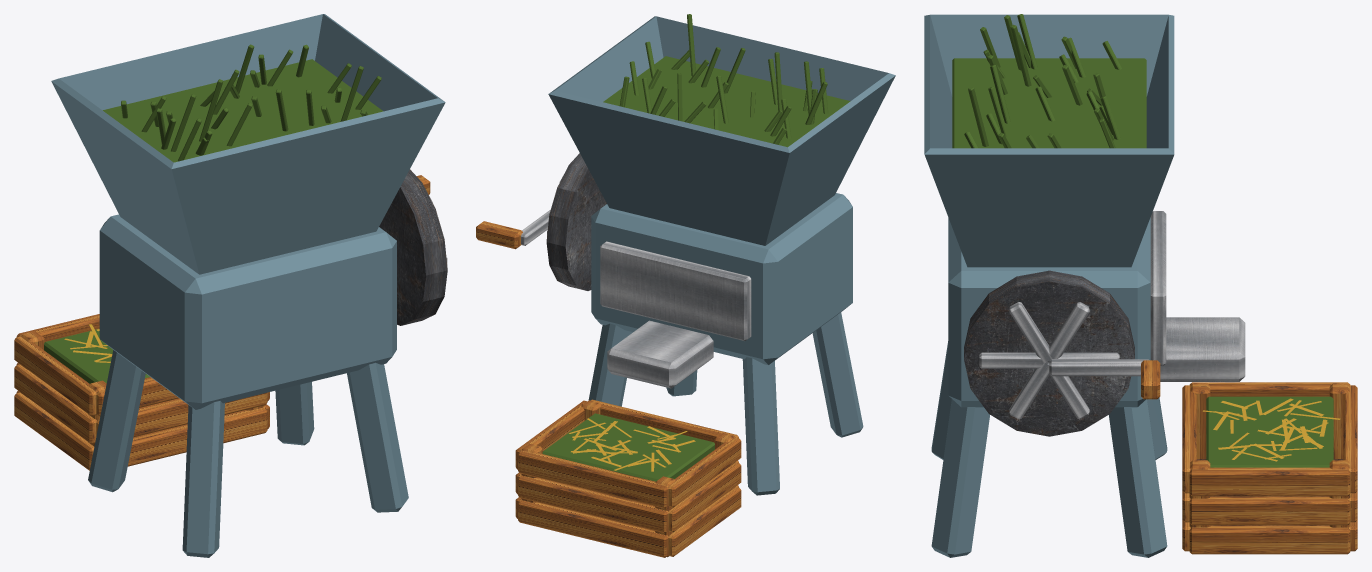
Rendered from BarnCozy_Machine.fbx.
3 views of the same model, side by side, from view 1: azimuth 30°, elevation 25°; view 2: azimuth 150°, elevation 25°; view 3: azimuth 270°, elevation 25° (orthographic). The views are drawn at different scales.
Visible parts, largest first — view 1: BarnCozy_Machine; view 2: BarnCozy_Machine; view 3: BarnCozy_Machine.
Boxes of the visible parts, box(x1,y1,x2,y2) form: BarnCozy_Machine: box(14, 14, 447, 557); BarnCozy_Machine: box(476, 14, 895, 557); BarnCozy_Machine: box(924, 14, 1357, 557).
Size of the model in its own units: 1.68 by 1.97 by 1.67.
